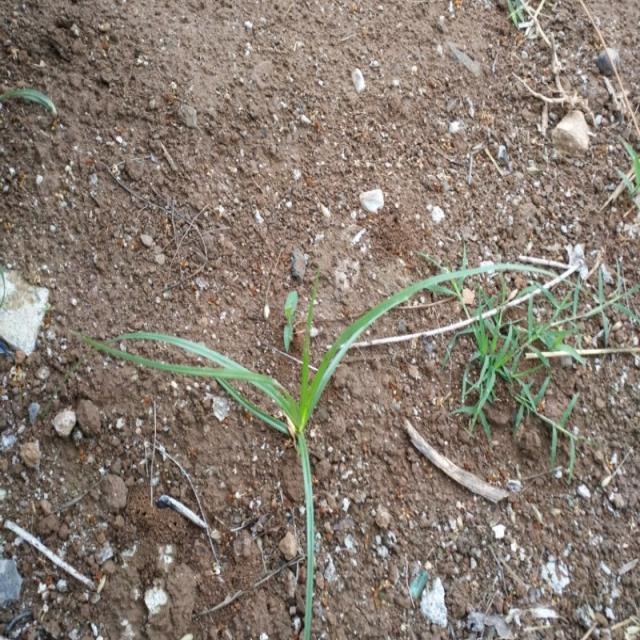sedge: (98, 268, 446, 586)
